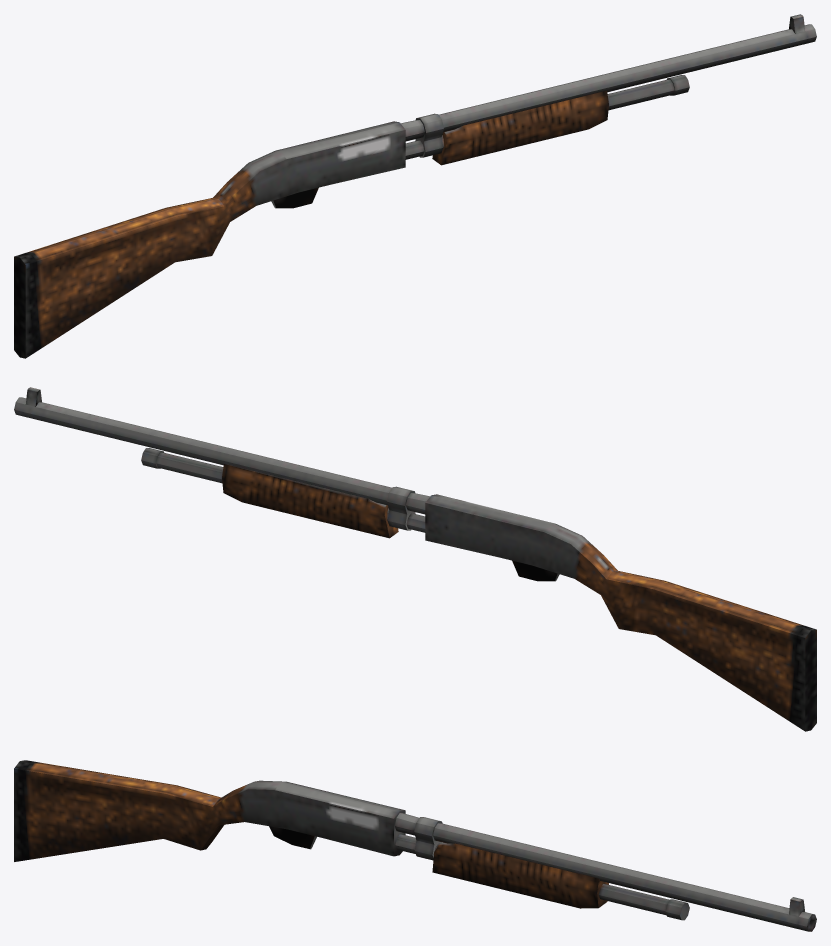
The model's file is weapon_shotgun.fbx.
The picture shows the model from 3 angles, top to bottom: view 1: azimuth 30°, elevation 25°; view 2: azimuth 150°, elevation 25°; view 3: azimuth 330°, elevation 25°; orthographic projection.
Parts seen in each view (by area): view 1: lowShotgun; view 2: lowShotgun; view 3: lowShotgun.
Boxes of the visible parts, bbox=[...] form: lowShotgun: bbox=[14, 14, 816, 358]; lowShotgun: bbox=[14, 387, 816, 731]; lowShotgun: bbox=[14, 760, 816, 931].
Size of the model in its own units: 121 by 22.06 by 3.18.
1 material, 1 textured.
